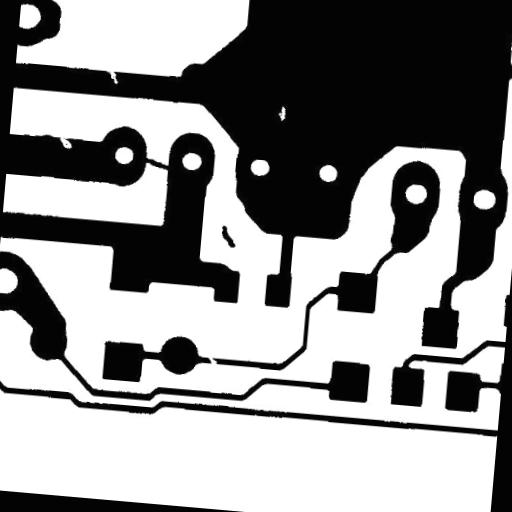copper: (212, 218, 245, 256)
mousebite: (95, 58, 127, 92), (50, 129, 80, 157)
open: (199, 348, 226, 374)
pin-hole: (270, 98, 294, 128)
short: (131, 148, 178, 178)
